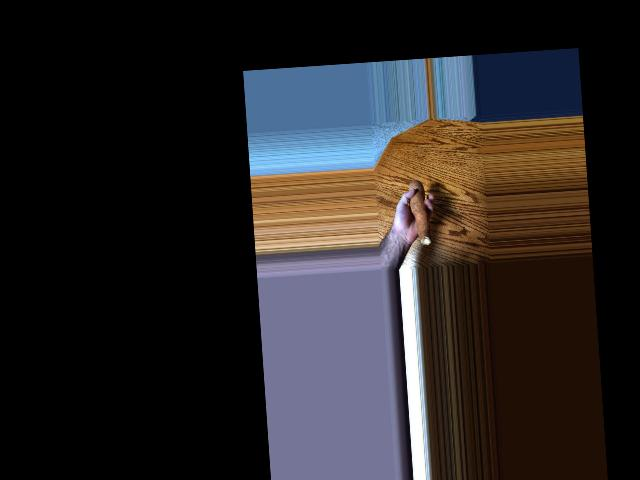sweet_potato: (407, 183, 432, 241)
